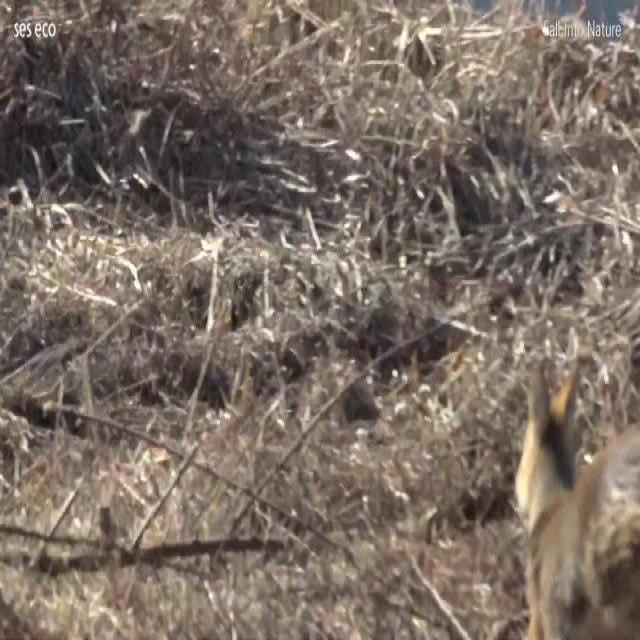deer: (514, 360, 640, 640)
